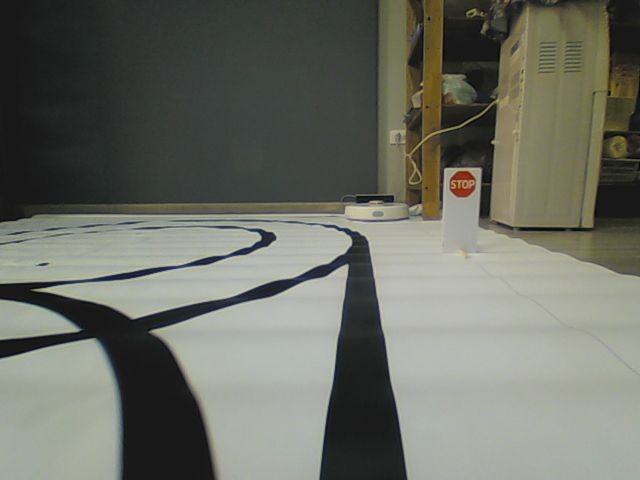Stop: (449, 169, 476, 198)
